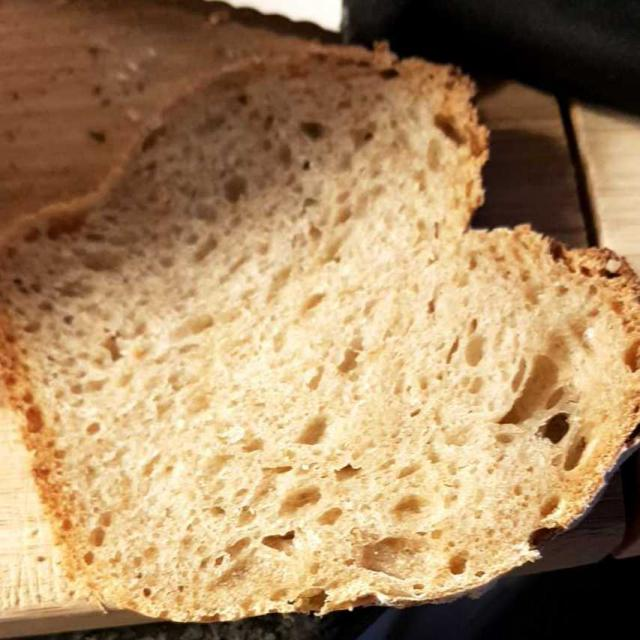bread-wholemeal: (11, 16, 632, 612)
